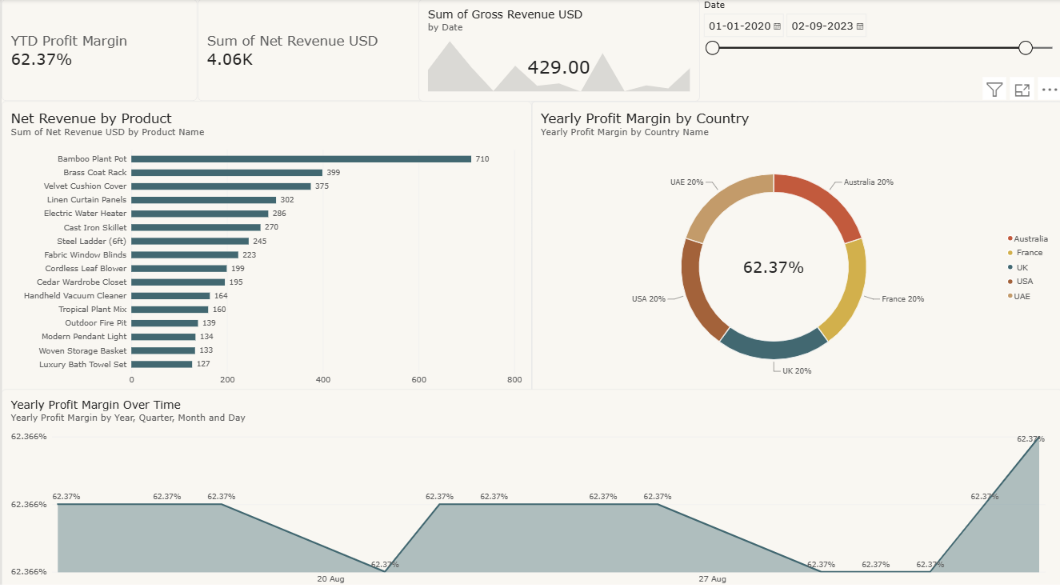

Layout of this report page (visuals, bound fields, positions):
{"tool":"powerbi","page":{"name":"Profit Overview","canvas":[1920,1080],"ordinal":1},"visuals":[{"type":"clusteredBarChart","title":"Net Revenue by Product","fields":{"Category":["Sales in USD.Product Name"],"Y":["Sum(Sales in USD.Net Revenue USD)"]},"box":[0,184.6,959.1,535.7],"z":0},{"type":"donutChart","title":"Yearly Profit Margin by Country","fields":{"Category":["Sales in USD.Country Name"],"Y":["Sales in USD.Yearly Profit Margin"]},"box":[959.1,184.6,960.9,535.7],"z":1},{"type":"areaChart","title":"Yearly Profit Margin Over Time","fields":{"Category":["CalendarTable.Date.Variation.Date Hierarchy.Year","CalendarTable.Date.Variation.Date Hierarchy.Quarter","CalendarTable.Date.Variation.Date Hierarchy.Month","CalendarTable.Date.Variation.Date Hierarchy.Day"],"Y":["Sales in USD.Yearly Profit Margin"]},"box":[0,705.8,1920.1,374.6],"z":2},{"type":"cardVisual","fields":{"Data":["Sales in USD.YTD Profit Margin"]},"box":[0,0,354.7,184.6],"z":3},{"type":"cardVisual","fields":{"Data":["Sum(Sales in USD.Net Revenue USD)"]},"box":[354.7,0,412.6,184.6],"z":4},{"type":"kpi","fields":{"Indicator":["Sum(Sales in USD.Gross Revenue USD)"],"TrendLine":["CalendarTable.Date"]},"box":[754.6,0,508.5,184.6],"z":5},{"type":"slicer","fields":{"Values":["CalendarTable.Date"]},"box":[1263.1,0,656.9,184.6],"z":6}]}

Visuals, with their boxes on the page's 1920x1080 design canvas (x1, y1, x2, y2). These are canvas units, not pixel positions in the 1060x585 screenshot, which may show the page scaled, cropped or inside an application window:
"Net Revenue by Product" clusteredBarChart: 0, 185, 959, 720
"Yearly Profit Margin by Country" donutChart: 959, 185, 1920, 720
"Yearly Profit Margin Over Time" areaChart: 0, 706, 1920, 1080
cardVisual - Sales in USD.YTD Profit Margin: 0, 0, 355, 185
cardVisual - Sum(Sales in USD.Net Revenue USD): 355, 0, 767, 185
kpi - Sum(Sales in USD.Gross Revenue USD) x CalendarTable.Date: 755, 0, 1263, 185
slicer - CalendarTable.Date: 1263, 0, 1920, 185
